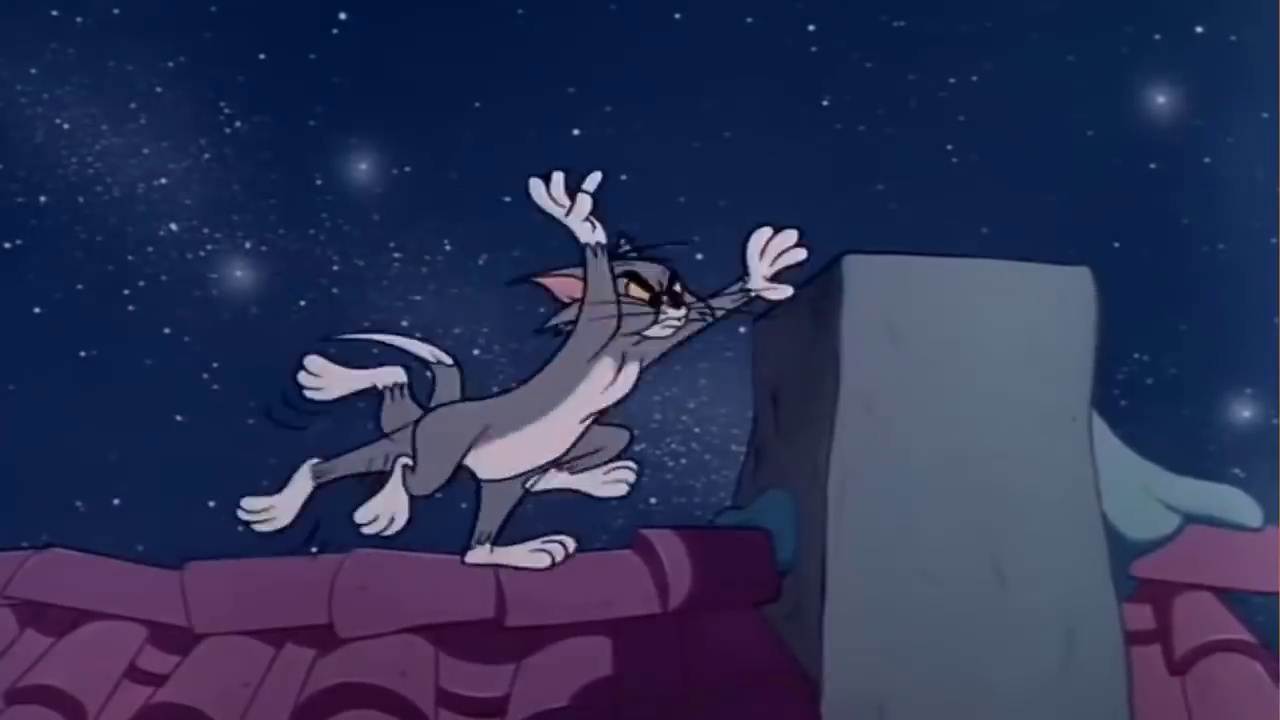face: (612, 259, 694, 344)
